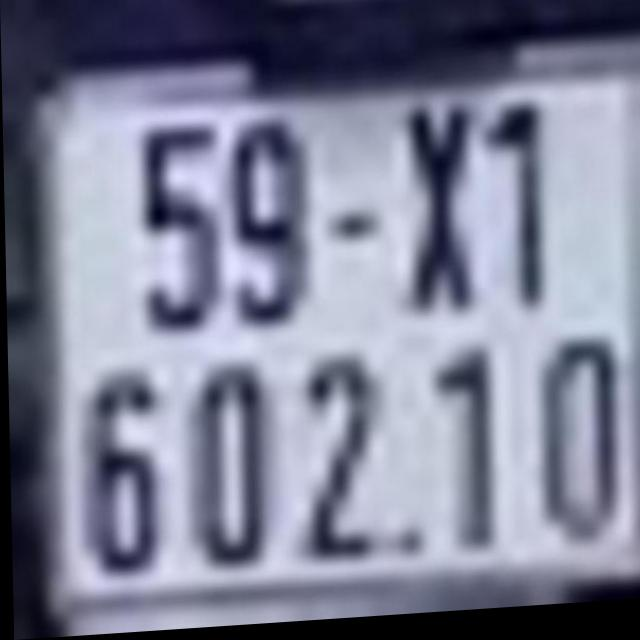0: (530, 339, 618, 552), (191, 367, 268, 571)
1: (432, 345, 499, 554), (487, 100, 548, 312)
2: (299, 344, 375, 561)
5: (140, 122, 222, 333)
6: (81, 368, 159, 581)
9: (226, 116, 312, 335)
X: (394, 107, 482, 320)
